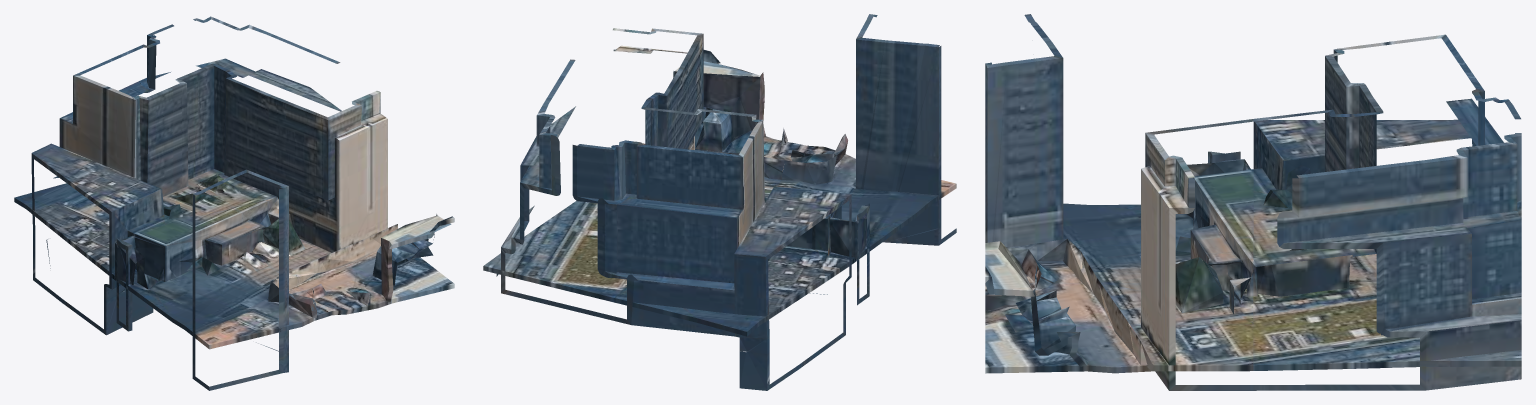
The model's file is chunk_-8_2.glb.
3 renders of one model, left to right at view 1: azimuth 30°, elevation 25°; view 2: azimuth 150°, elevation 25°; view 3: azimuth 270°, elevation 25°, orthographic. The views are drawn at different scales.
Parts seen in each view (by area): view 1: hero-chunk; view 2: hero-chunk; view 3: hero-chunk.
Boxes of the visible parts, <box> form: hero-chunk: <box>14,16,454,390</box>; hero-chunk: <box>483,14,956,390</box>; hero-chunk: <box>985,14,1521,390</box>.
Bounding box in the file's own units: 55.43 × 45.2 × 76.32.
1 material, 1 textured.
